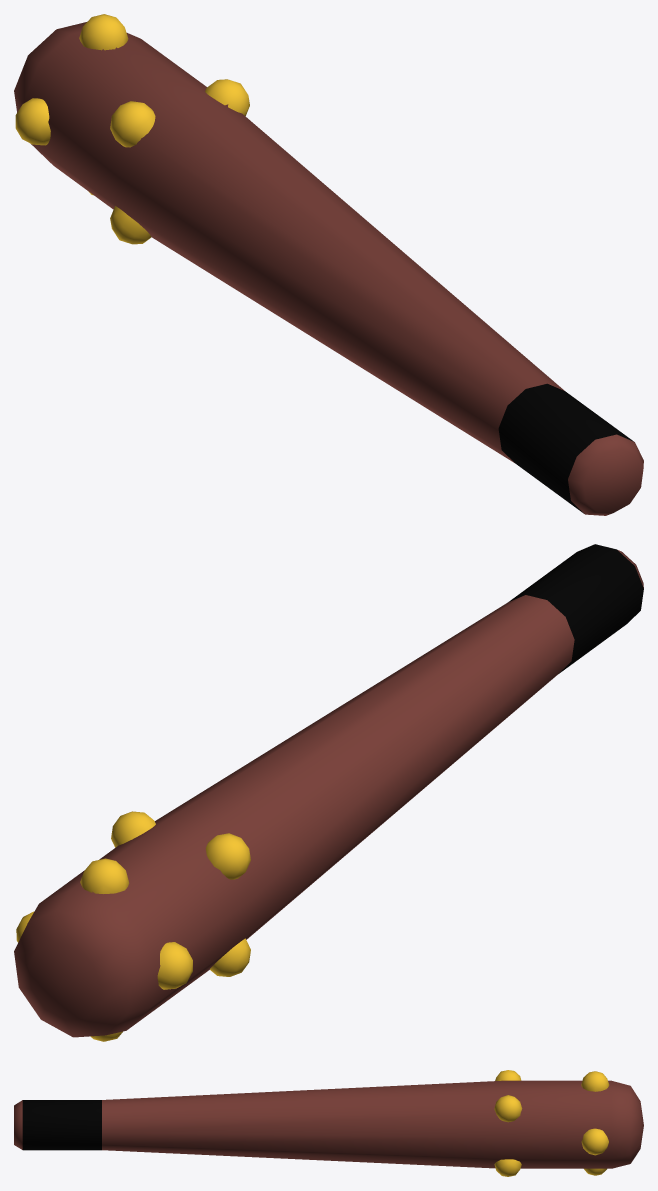
The model's file is Cudgel.fbx.
The picture shows the model from 3 angles, top to bottom: view 1: azimuth 30°, elevation 25°; view 2: azimuth 150°, elevation 25°; view 3: azimuth 270°, elevation 25°; orthographic projection. The views are drawn at different scales.
Visible parts, largest first — view 1: cudgel; view 2: cudgel; view 3: cudgel.
Part boxes in pixels (<box>): cudgel: <box>14,14,643,515</box>; cudgel: <box>14,544,643,1041</box>; cudgel: <box>14,1070,643,1176</box>.
Bounding box in the file's own units: 39.87 × 39.87 × 222.
